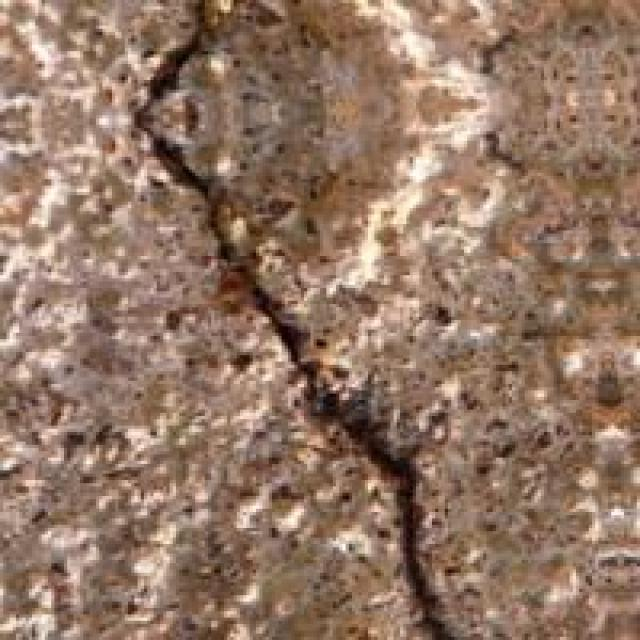Crack: (106, 0, 451, 634)
